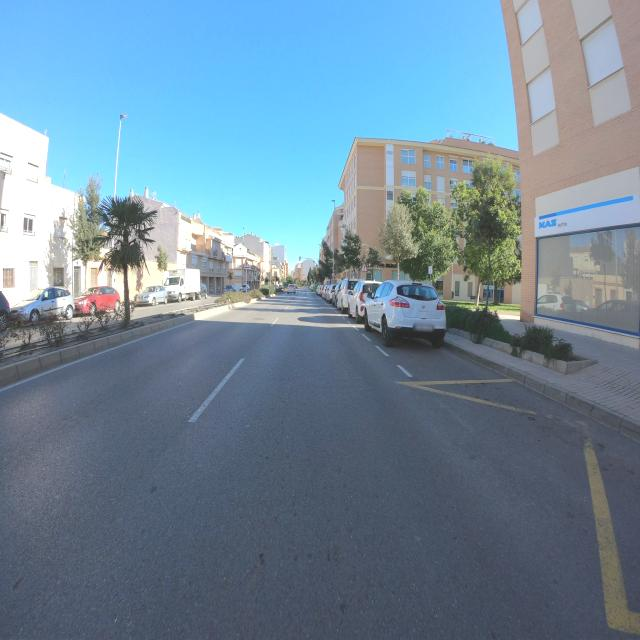car: (363, 279, 447, 347), (10, 286, 76, 326), (73, 285, 122, 316), (348, 280, 381, 322), (534, 292, 590, 313), (337, 278, 359, 312), (134, 284, 168, 306), (0, 284, 11, 333), (328, 284, 338, 304), (287, 283, 297, 295), (321, 284, 328, 298), (240, 284, 251, 292), (275, 284, 283, 293)
